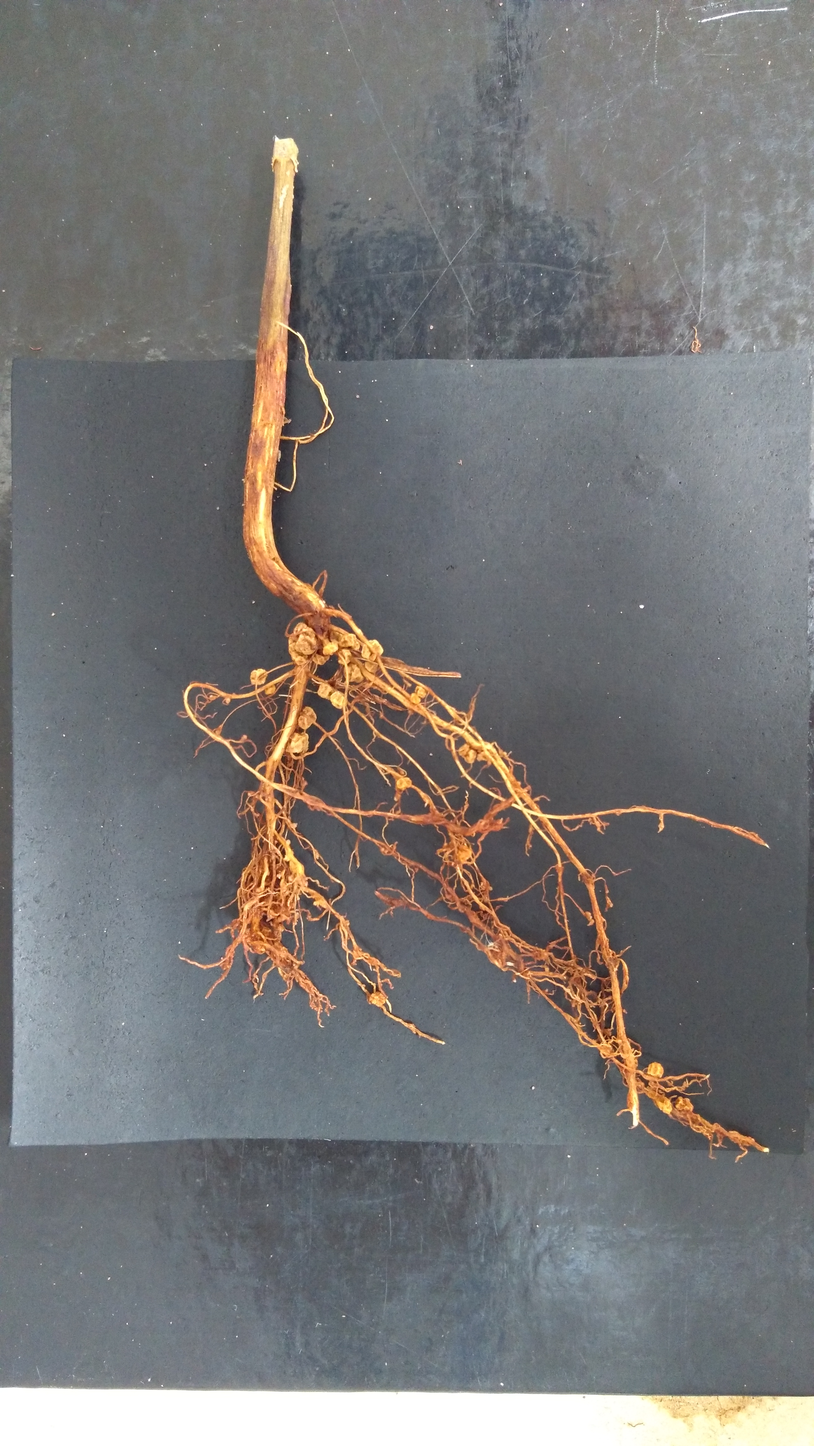nodule: (292, 621, 318, 656), (285, 631, 309, 666), (285, 731, 311, 755), (360, 638, 385, 662), (296, 705, 319, 731), (343, 662, 366, 685), (338, 632, 361, 652), (458, 742, 477, 765), (248, 667, 269, 686), (329, 689, 348, 710), (674, 1095, 695, 1114), (455, 843, 472, 864), (311, 651, 333, 667), (655, 1096, 673, 1115), (367, 991, 387, 1008), (335, 649, 353, 666), (647, 1061, 665, 1078), (316, 681, 331, 701), (288, 860, 306, 876), (321, 641, 340, 656), (395, 776, 414, 790), (363, 660, 378, 674), (414, 685, 427, 700), (409, 691, 421, 706), (263, 683, 277, 695), (253, 946, 267, 954)
